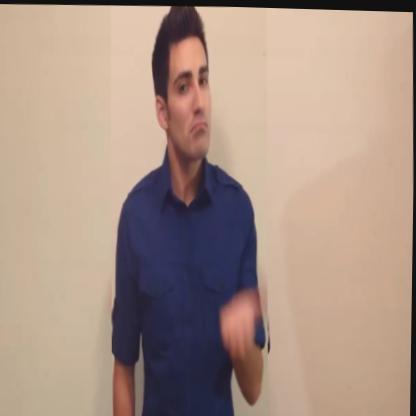ThankYou: (105, 3, 274, 416)
